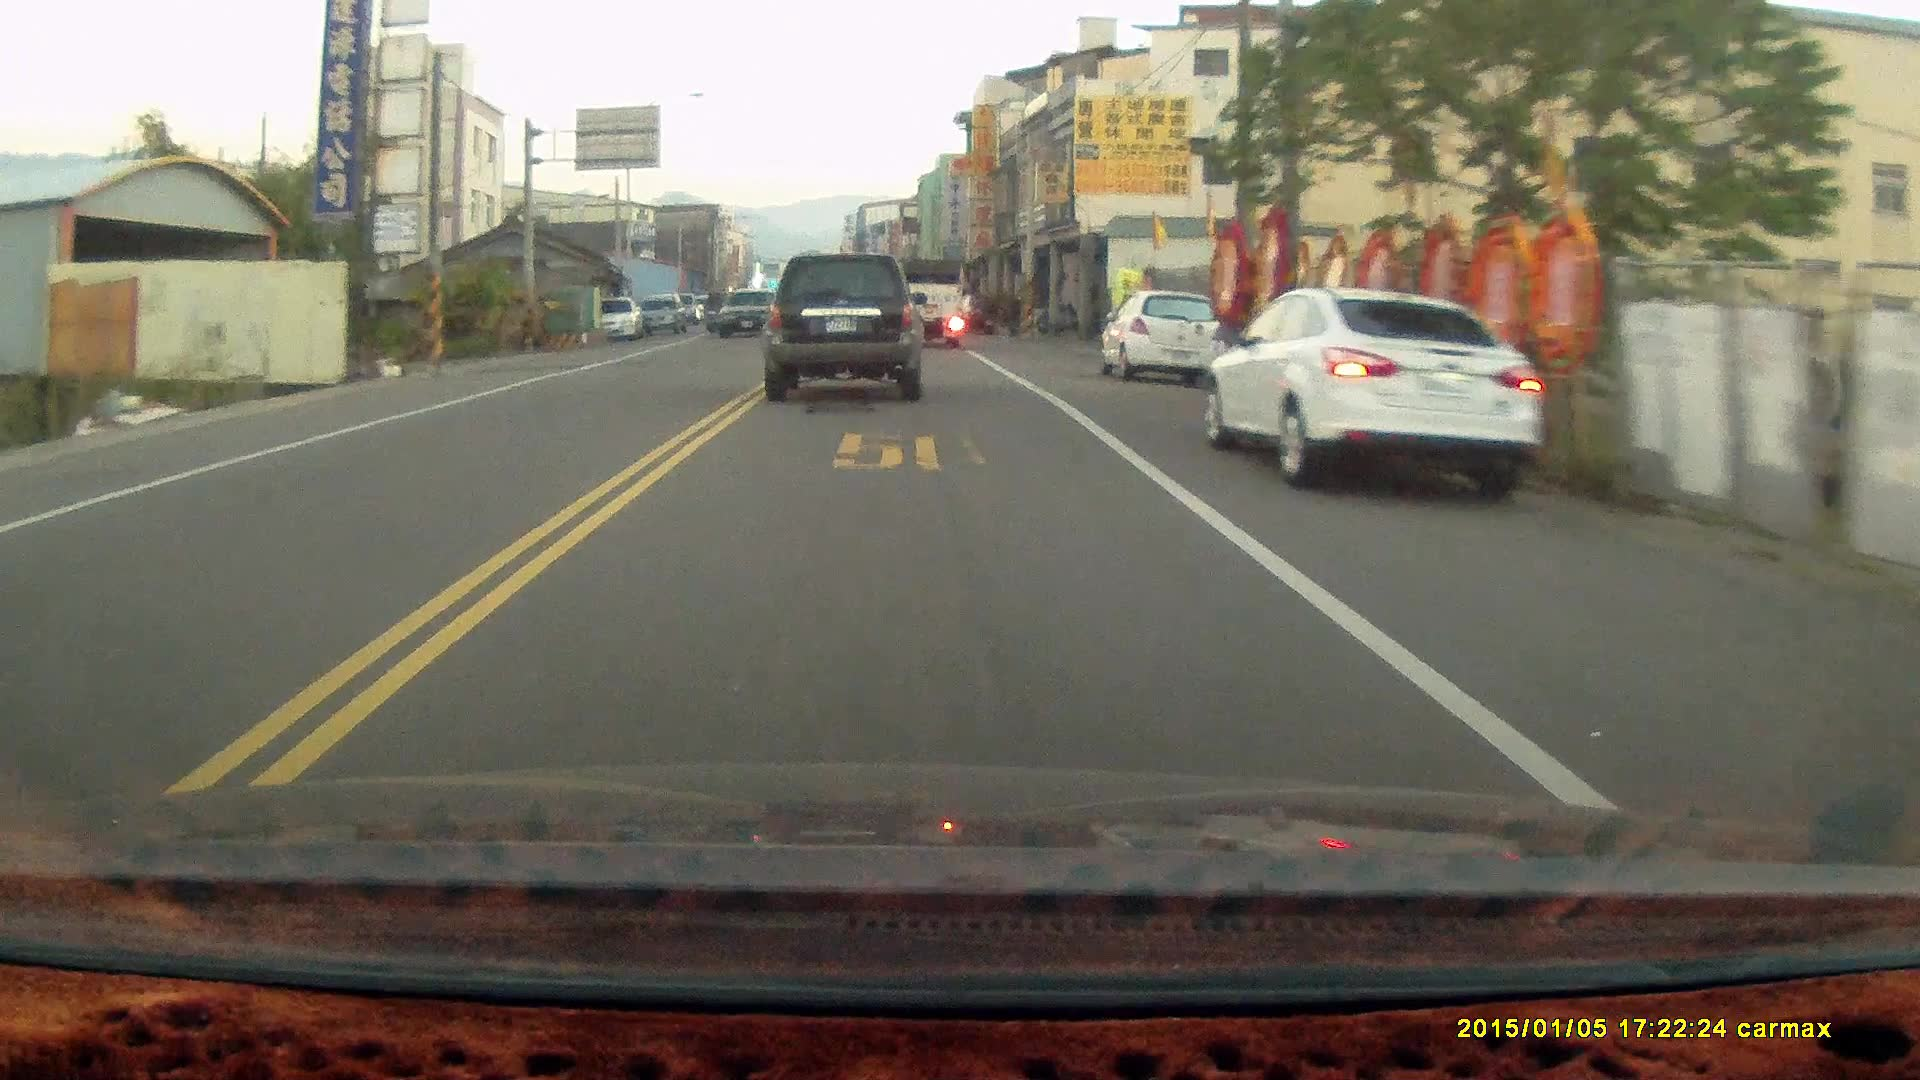vehicle: (1205, 284, 1551, 487), (762, 253, 924, 402), (1098, 287, 1230, 388), (890, 257, 967, 352)
